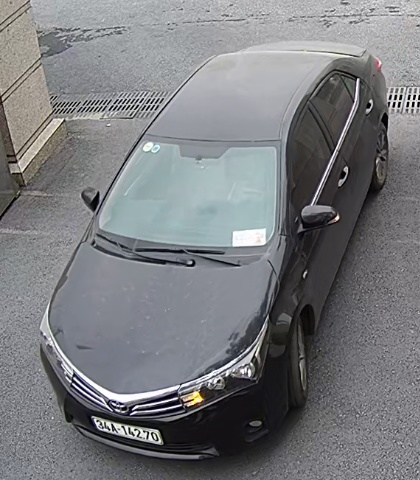vehicle plate: (82, 408, 171, 454)
